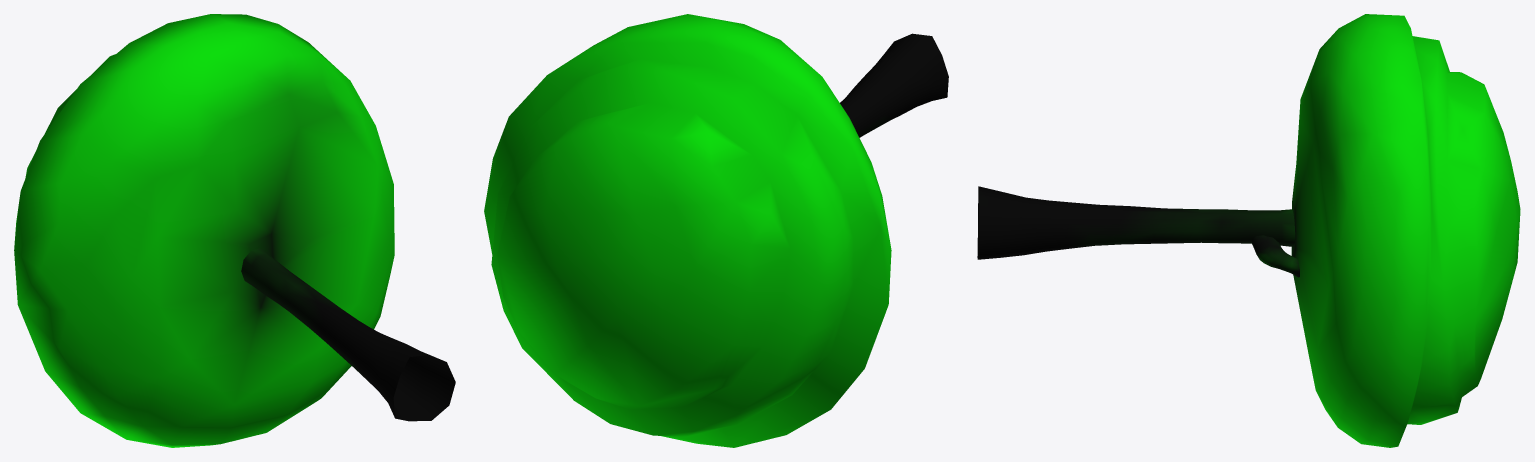
File: Tree_03.fbx
The picture shows the model from 3 angles, left to right: view 1: azimuth 30°, elevation 25°; view 2: azimuth 150°, elevation 25°; view 3: azimuth 270°, elevation 25°; orthographic projection. The views are drawn at different scales.
Parts seen in each view (by area): view 1: Tree_03_LOD0; view 2: Tree_03_LOD0; view 3: Tree_03_LOD0.
Part boxes in pixels (x1=…): Tree_03_LOD0: x1=14, y1=14, x2=455, y2=447; Tree_03_LOD0: x1=484, y1=14, x2=948, y2=447; Tree_03_LOD0: x1=977, y1=14, x2=1520, y2=447.
Size of what is drawn, in the model's own units: 5.42 by 5.71 by 7.21.
